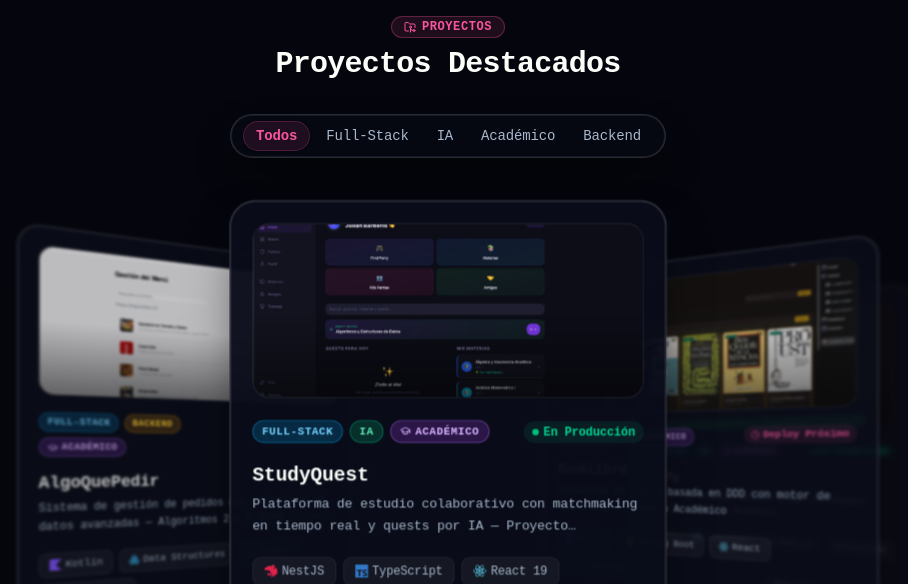
Test: Projects Component (src/components/Projects.tsx) › Category Filtering › filters to only AI projects (StudyQuest & SQLify) when clicking 'IA'
The width and height of the screenshot is (908, 584).
Click the tab "IA" at (445, 136), box [425,122,465,150]
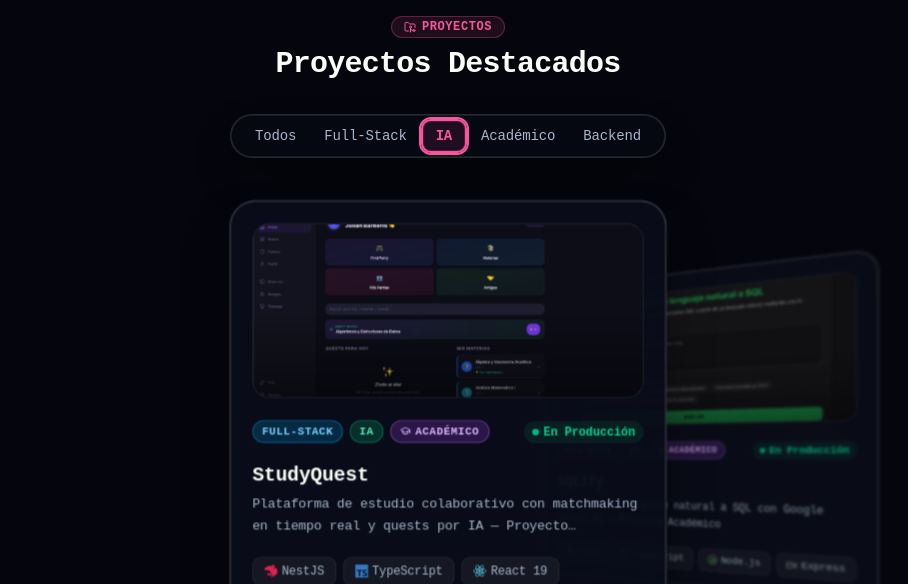
Expected: the heading "StudyQuest" is shown, [252,463,369,485]
Expected: the heading "BookLibre" is gone
Expected: the heading "AlgoQuePedir" is gone
